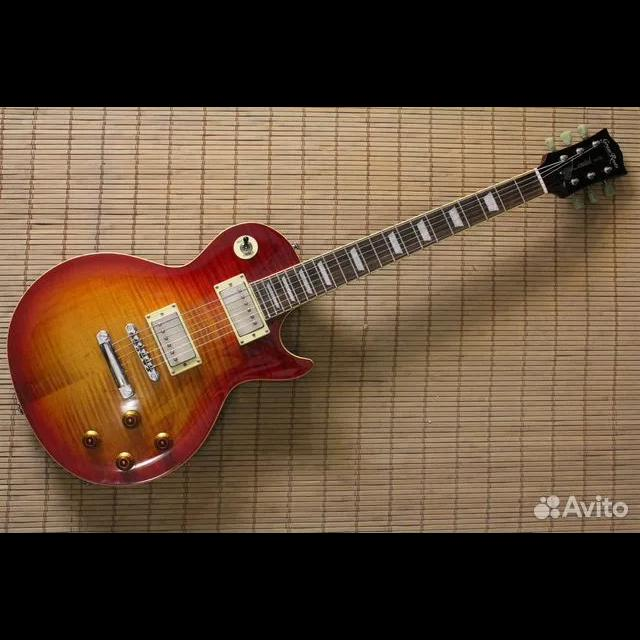Electric-Guitar: (8, 126, 628, 487)
